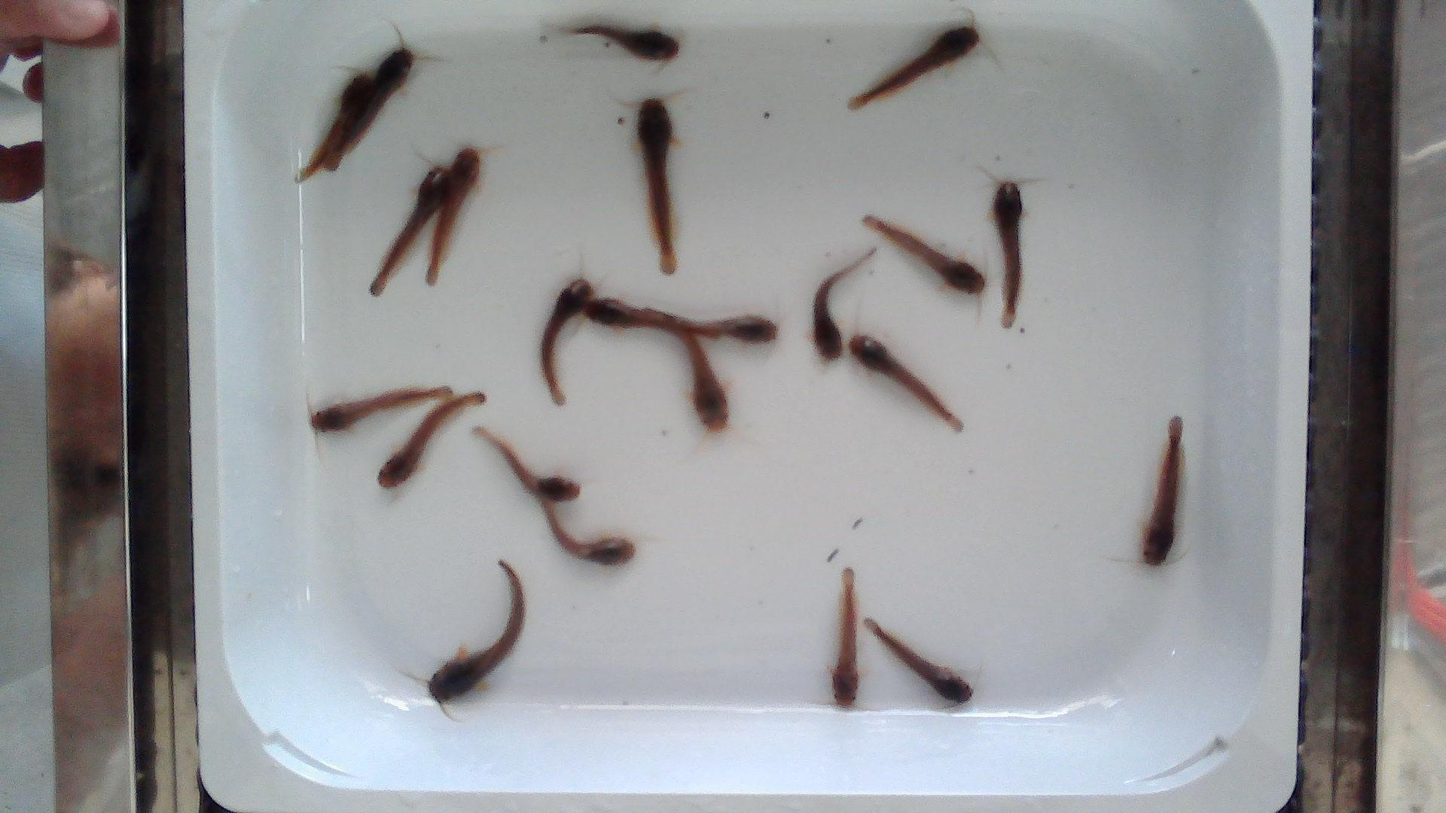lele: (428, 561, 524, 701), (320, 47, 412, 175), (850, 23, 979, 109), (849, 335, 962, 431), (370, 166, 448, 299), (378, 394, 484, 489), (862, 216, 984, 294), (865, 620, 972, 702), (292, 76, 372, 180), (425, 148, 482, 286), (475, 432, 579, 502), (813, 248, 875, 361), (636, 99, 676, 274), (541, 279, 593, 405), (536, 503, 636, 567), (311, 387, 456, 431), (1142, 416, 1184, 565), (585, 298, 720, 339), (677, 329, 729, 430), (992, 182, 1022, 327), (831, 568, 859, 707), (573, 24, 679, 59), (694, 314, 779, 345)
